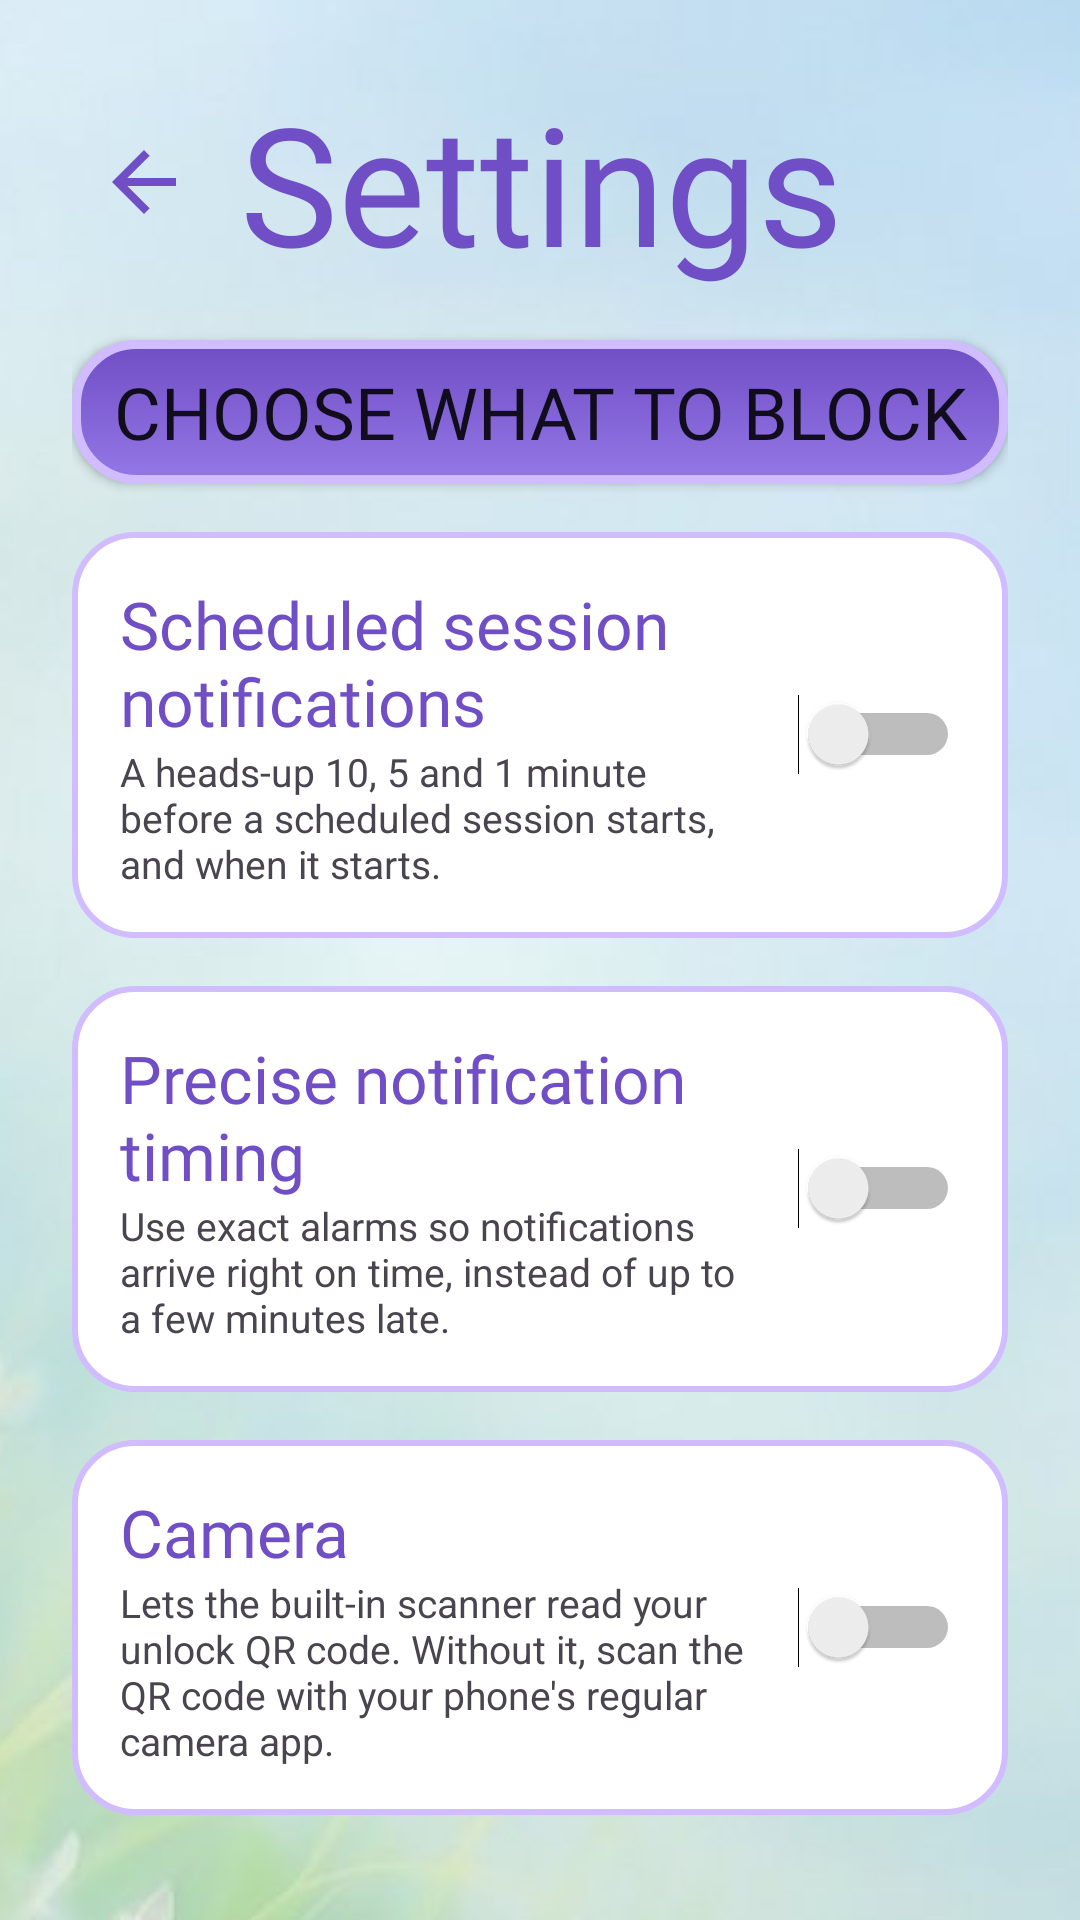

Icon bounding boxes for this 1080 × 1920 phone screenshot, format [left=x1, top=y1, right=x2, bottom=y2]:
Back: [left=112, top=150, right=176, bottom=214]
